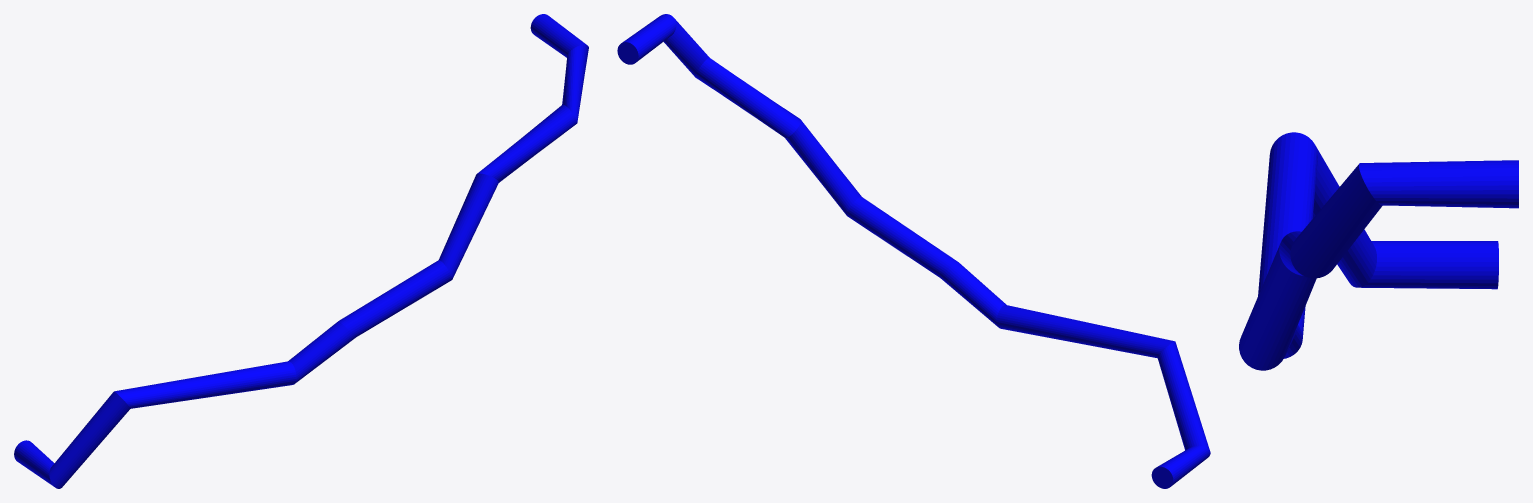
3 views of the same model, side by side, from view 1: azimuth 30°, elevation 25°; view 2: azimuth 150°, elevation 25°; view 3: azimuth 270°, elevation 25° (orthographic). The views are drawn at different scales.
Visible parts, largest first — view 1: line5; view 2: line5; view 3: line5.
Part boxes in pixels (<box>): line5: <box>14,14,588,488</box>; line5: <box>617,14,1210,488</box>; line5: <box>1239,132,1518,370</box>.
Bounding box in the file's own units: 468 × 261 × 104.
